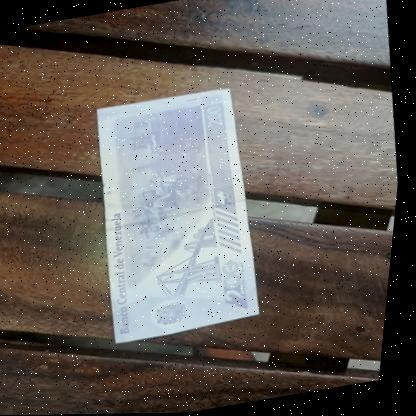two_hundred-back-vef: (81, 84, 283, 345)
